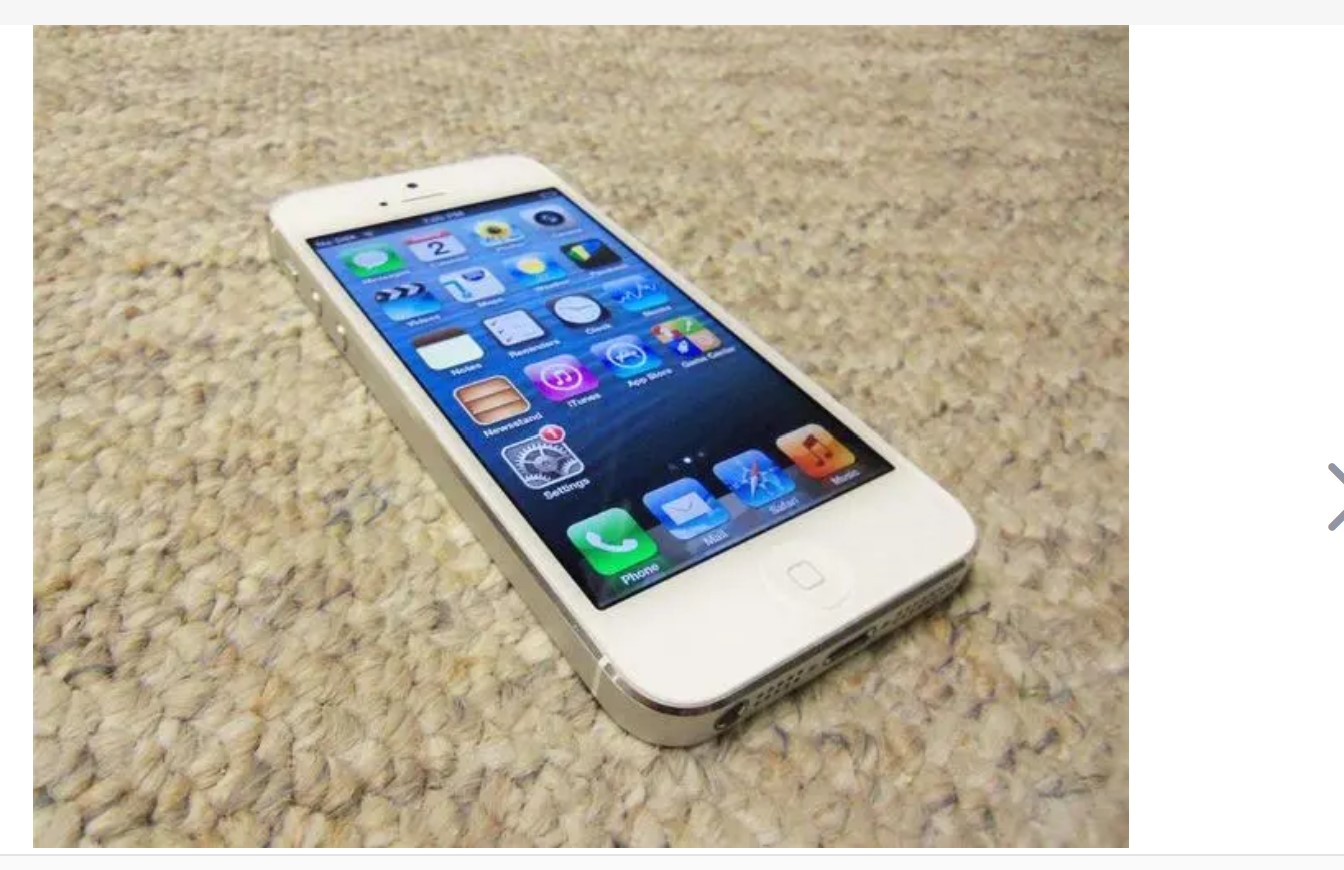phone: (263, 153, 977, 750)
